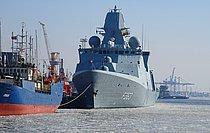MIL_Ship: (71, 7, 158, 108)
